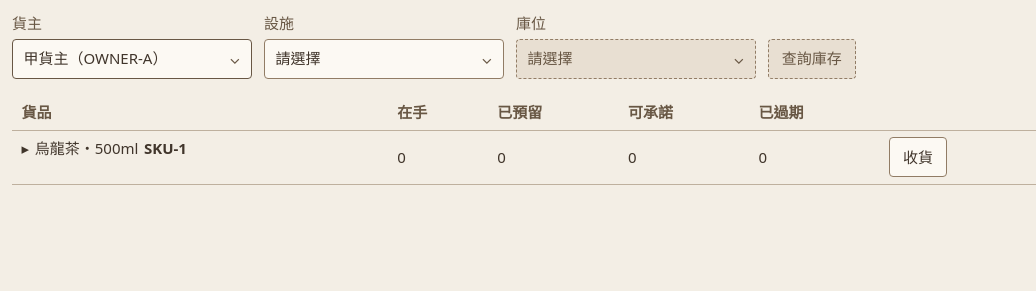
Test: StockPanel 的展開 › 沒過期但被預留光的批標成「已預留完」，與過期分開
Click the button "▸ 烏龍茶・500ml SKU-1": [104, 157] box [22, 137, 187, 177]
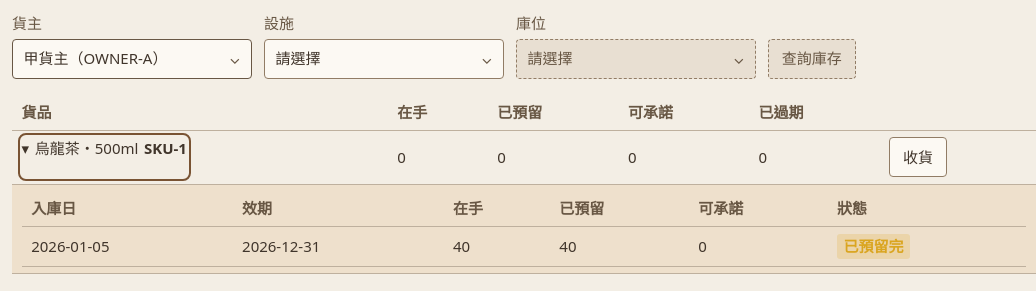
Expected: the text "已預留完" is shown, [837, 234, 910, 259]
